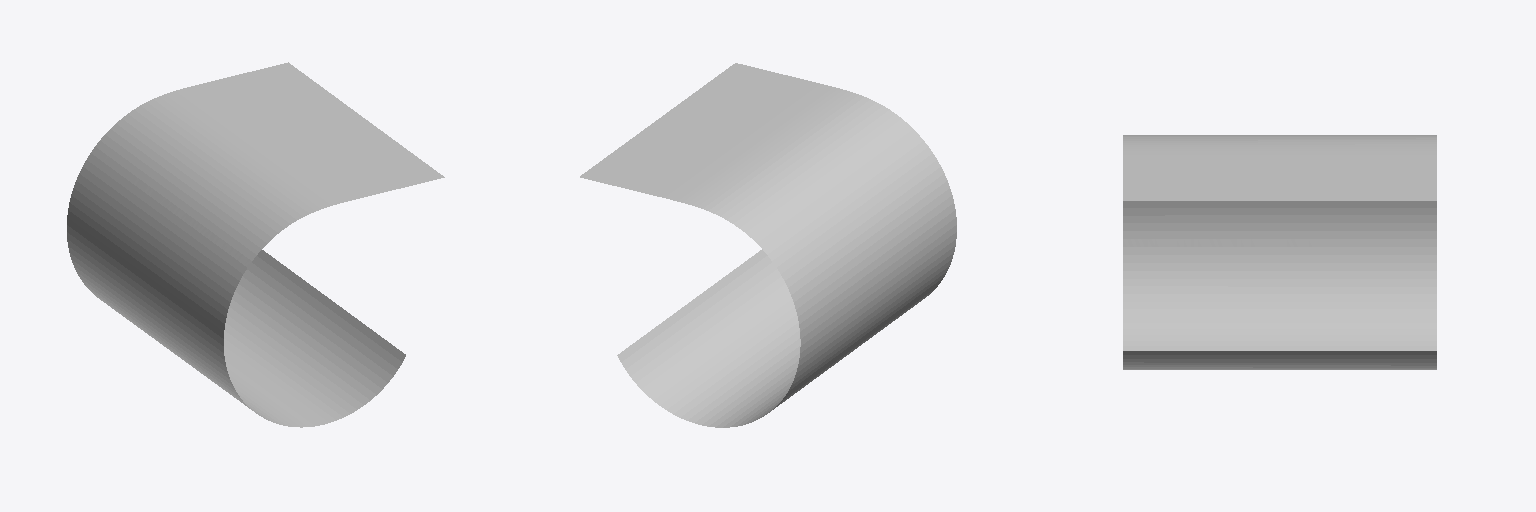
File: CurvePaper_000028.obj
The picture shows the model from 3 angles: view 1: azimuth 30°, elevation 25°; view 2: azimuth 150°, elevation 25°; view 3: azimuth 270°, elevation 25°; orthographic projection.
Parts seen in each view (by area): view 1: Plane; view 2: Plane; view 3: Plane.
Part boxes in pixels (x1,y1,x2,y2): Plane: (67,62,444,427); Plane: (580,63,956,427); Plane: (1123,135,1436,369).
Size of the model in its own units: 1.85 by 1.74 by 2.26.